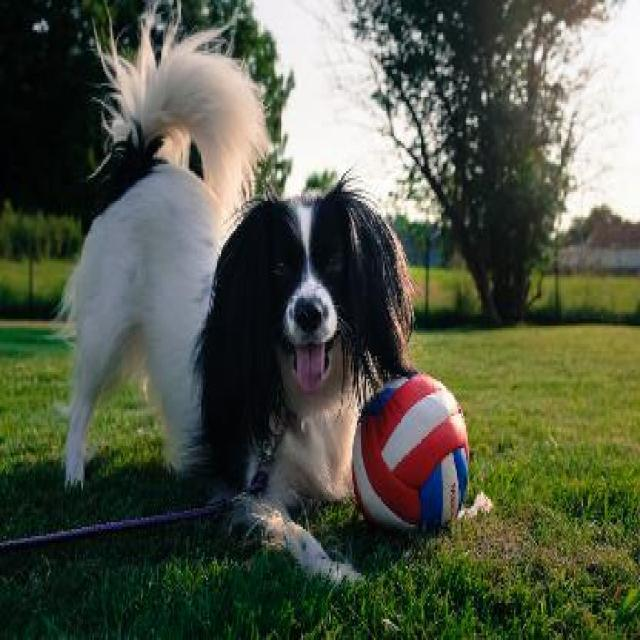volleyball: (352, 376, 470, 530)
